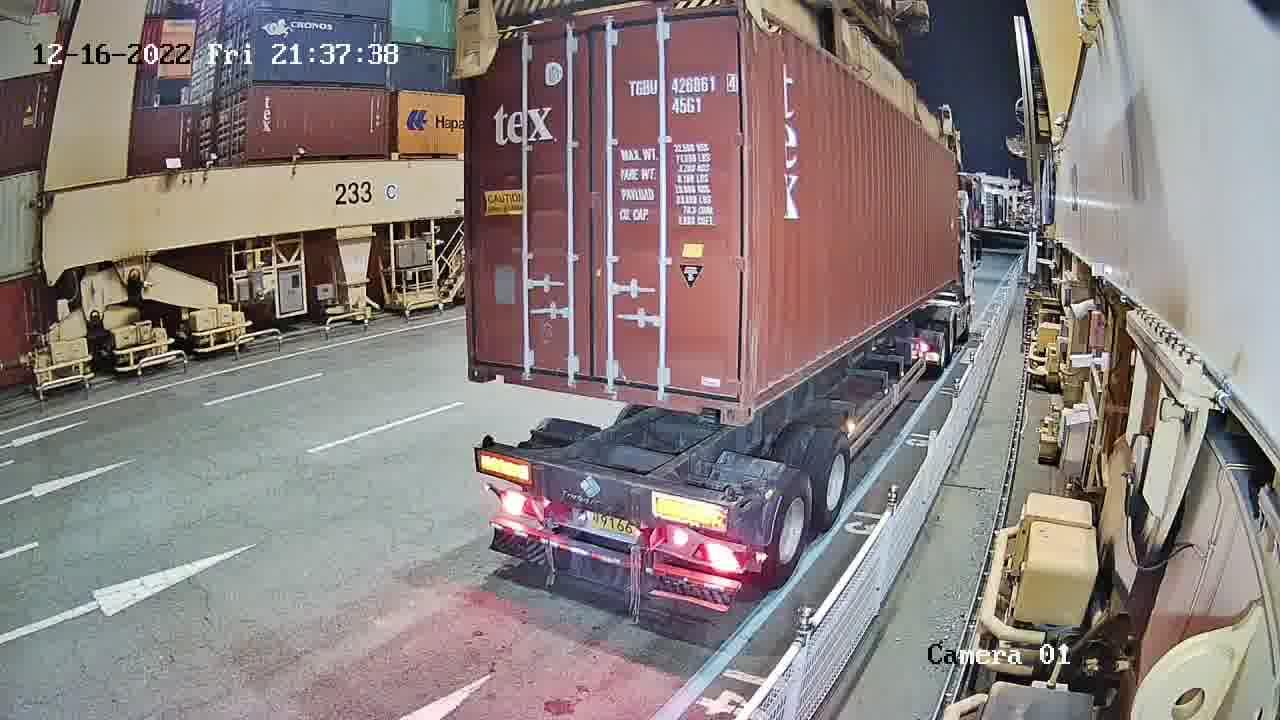Chassis: (472, 453, 733, 547)
Container: (467, 346, 747, 427)
Hole_L: (744, 373, 770, 428), (468, 347, 496, 385)
Hole_R: (710, 379, 744, 423)
Tire: (766, 473, 813, 593), (812, 435, 853, 540)
